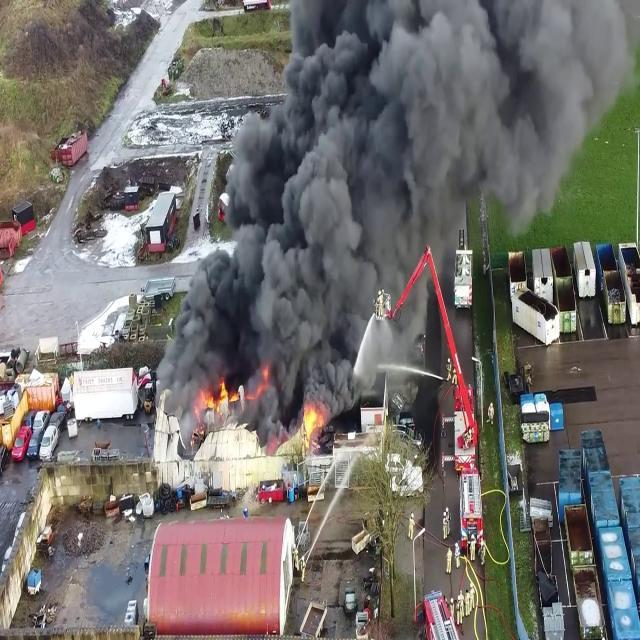Fire: (198, 372, 240, 417), (300, 396, 328, 444)
Smoke: (161, 0, 631, 408)
